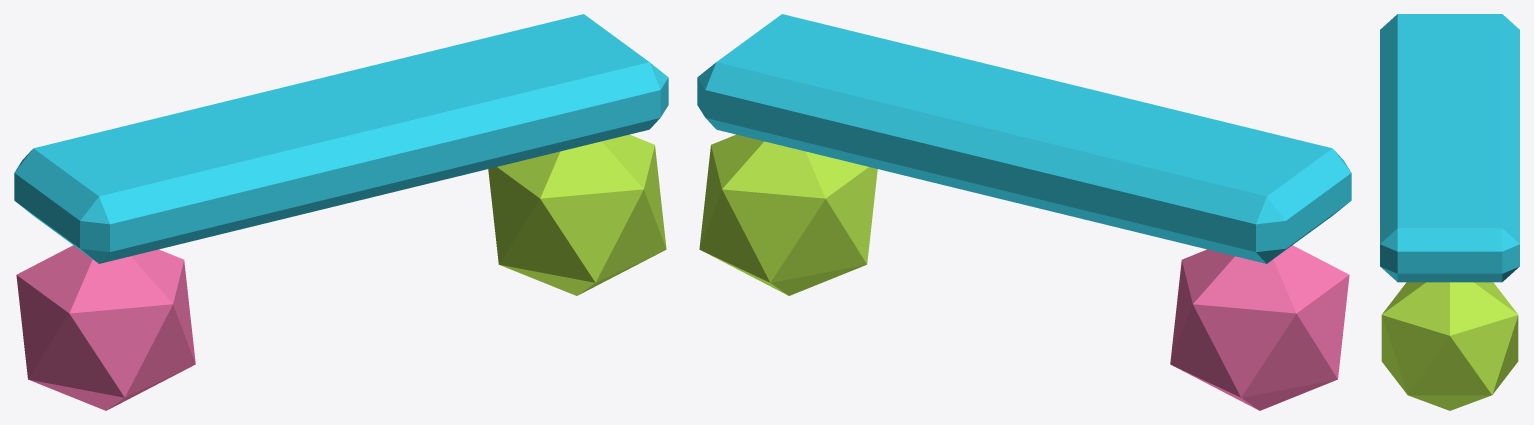
The model's file is jelly_bridge.glb.
The picture shows the model from 3 angles, left to right: view 1: azimuth 30°, elevation 25°; view 2: azimuth 150°, elevation 25°; view 3: azimuth 270°, elevation 25°; orthographic projection. The views are drawn at different scales.
Visible parts, largest first — view 1: jelly_bridge; view 2: jelly_bridge; view 3: jelly_bridge.
Boxes of the visible parts, bbox=[...] form: jelly_bridge: bbox=[14, 14, 668, 410]; jelly_bridge: bbox=[697, 14, 1351, 410]; jelly_bridge: bbox=[1380, 14, 1519, 410].
Bounding box in the file's own units: 3.3 × 1.25 × 0.8.
